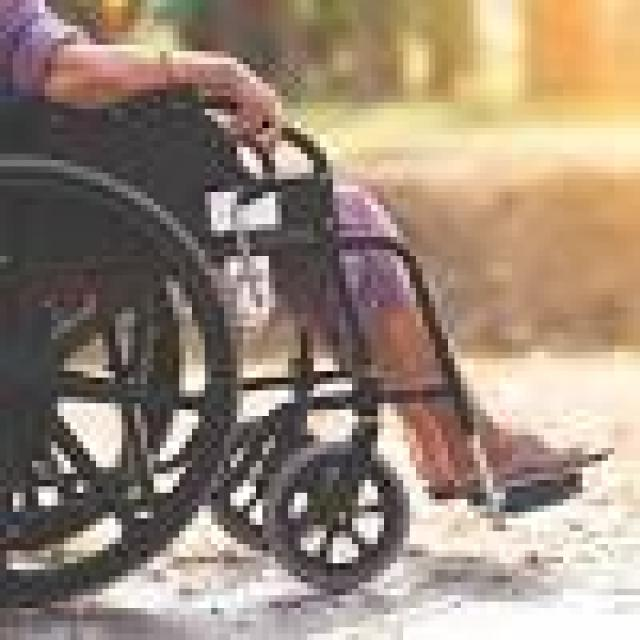wheelchairs: (0, 76, 614, 601)
